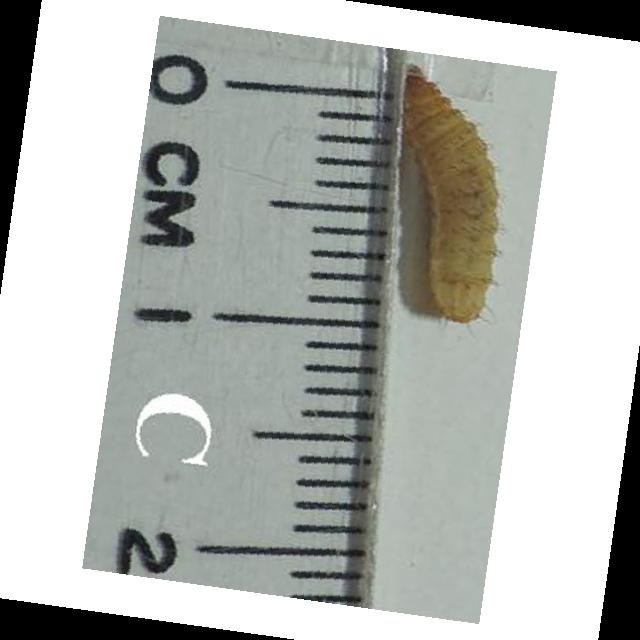Maggot: (400, 60, 502, 324)
